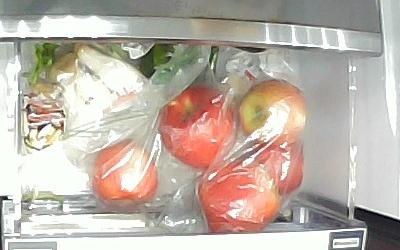apple_vinyl: (159, 87, 236, 170), (198, 160, 280, 233), (239, 80, 307, 147), (94, 138, 158, 205), (252, 137, 303, 193)
